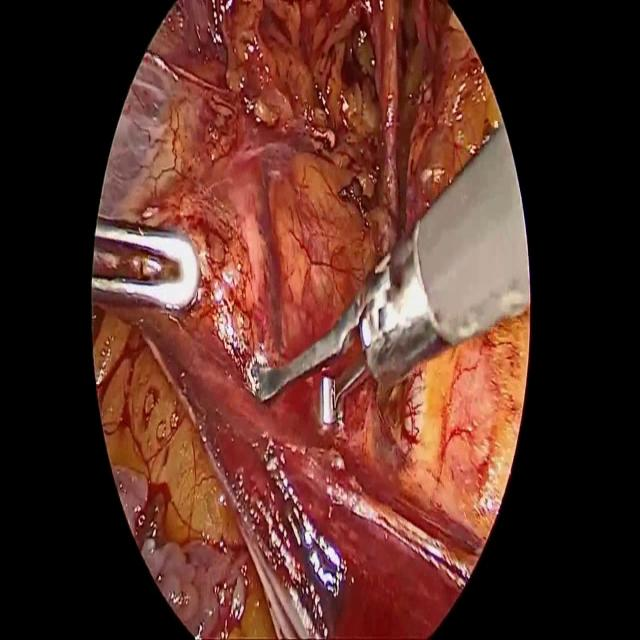surgical-area: (92, 0, 530, 639), (92, 242, 179, 281)
surgical-tool: (254, 118, 530, 410), (92, 213, 200, 311)
